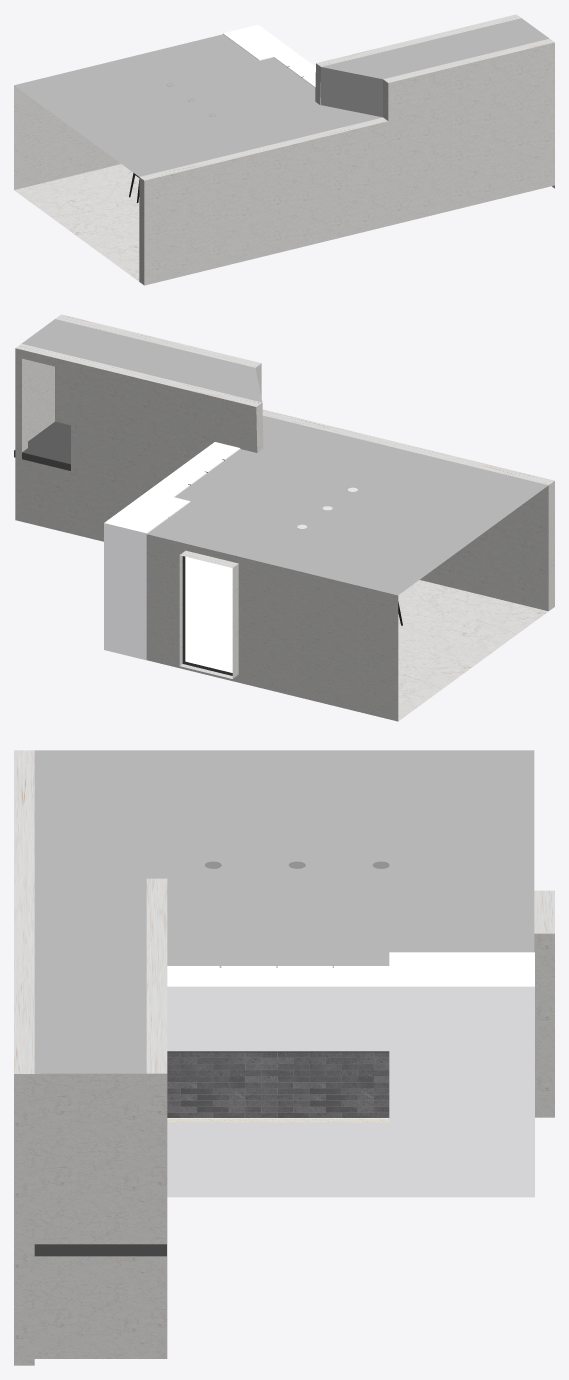
3 renders of one model, top to bottom at view 1: azimuth 30°, elevation 25°; view 2: azimuth 150°, elevation 25°; view 3: azimuth 270°, elevation 25°, orthographic. The views are drawn at different scales.
Visible parts, largest first — view 1: Structure, Ceiling, Floor, WindowWall, Cupboards; view 2: Ceiling, Structure, WindowWall, Floor, Cupboards, Window, Stairs, WindowTrim; view 3: Ceiling, Cupboards, Structure, Tiles, Stairs, Counters.
Boxes of the visible parts, x1,y1,x2,y2 form: Structure: [139, 14, 554, 285]; Ceiling: [14, 18, 549, 176]; Floor: [14, 164, 139, 281]; WindowWall: [14, 85, 120, 189]; Cupboards: [223, 25, 315, 87]; Ceiling: [22, 319, 548, 595]; Structure: [15, 314, 554, 678]; WindowWall: [146, 534, 398, 721]; Floor: [398, 580, 548, 720]; Cupboards: [104, 442, 240, 660]; Window: [185, 556, 232, 672]; Stairs: [14, 421, 70, 470]; WindowTrim: [182, 556, 232, 675]; Ceiling: [34, 750, 534, 1073]; Cupboards: [167, 952, 534, 1197]; Structure: [14, 750, 554, 1365]; Tiles: [167, 1052, 389, 1117]; Stairs: [34, 1244, 166, 1256]; Counters: [167, 1118, 389, 1122].
Size of the model in its own units: 22.59 by 7.67 by 12.89.
